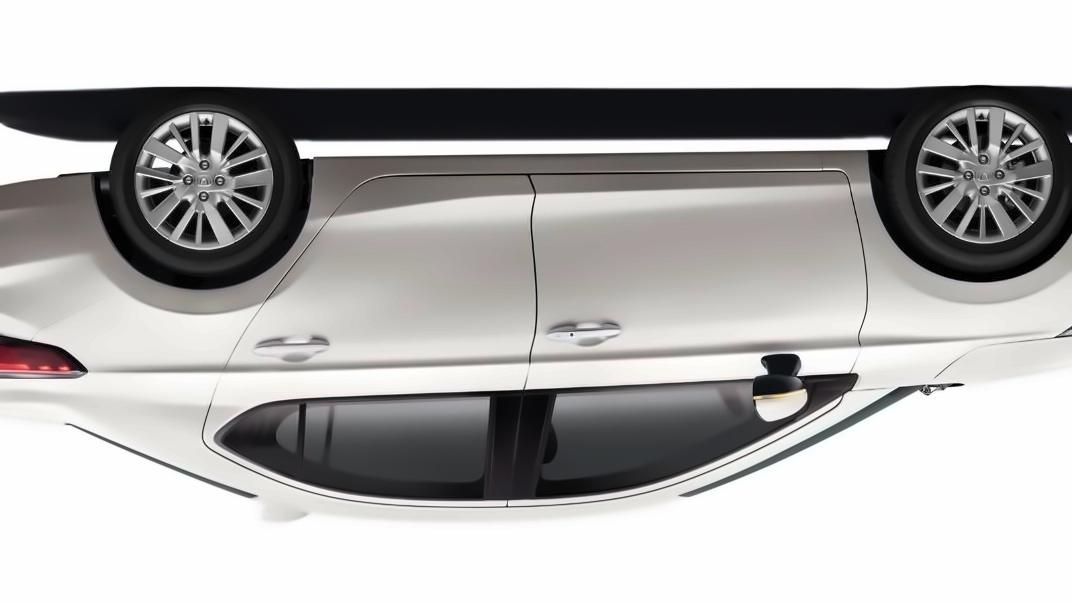Car hood: (917, 331, 1072, 405)
Fender - -F-L-: (817, 146, 1072, 387)
Fender - -R-L-: (56, 211, 347, 410)
Front bumper: (909, 217, 1072, 360)
Passenger-s door - -F-L-: (505, 160, 870, 537)
Passenger-s door - -R-L-: (199, 162, 541, 538)
Rear bumper: (0, 156, 153, 356)
Side bumper - -L-: (303, 126, 870, 201)
Side mirror - -L-: (745, 372, 814, 427)
